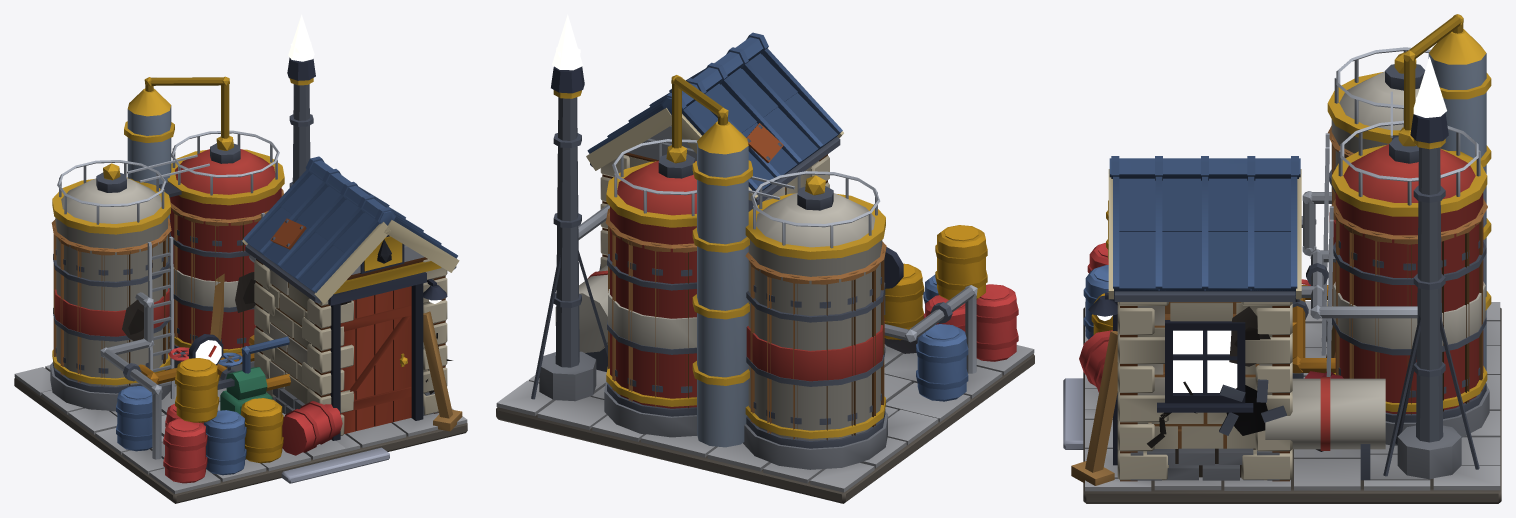
File: b_raffinerie.glb
3 views of the same model, side by side, from view 1: azimuth 30°, elevation 25°; view 2: azimuth 150°, elevation 25°; view 3: azimuth 270°, elevation 25° (orthographic). The views are drawn at different scales.
Parts seen in each view (by area): view 1: body, lv4_tanks, lv7_gold, lv4_haus, lvmax3_tanks, lv4_ausbau, dmg2_bruch, dmg1_spuren, lvmax3_haus, pulse_flamme_glow; view 2: body, lv4_tanks, lv7_gold, lv4_ausbau, lvmax3_tanks, lv4_haus, pulse_flamme_glow; view 3: body, lv4_tanks, lv4_haus, lv7_gold, lv4_ausbau, lvmax3_tanks, dmg2_bruch, win_glow, lvmax3_haus, dmg1_spuren, pulse_flamme_glow.
Boxes of the visible parts, left/top/right/bottom form: body: left=14, top=57, right=467, bottom=503; lv4_tanks: left=53, top=130, right=281, bottom=393; lv7_gold: left=52, top=76, right=441, bottom=385; lv4_haus: left=254, top=259, right=447, bottom=435; lvmax3_tanks: left=51, top=189, right=283, bottom=386; lv4_ausbau: left=116, top=358, right=219, bottom=451; dmg2_bruch: left=210, top=273, right=462, bottom=431; dmg1_spuren: left=122, top=272, right=452, bottom=394; lvmax3_haus: left=256, top=257, right=445, bottom=413; pulse_flamme_glow: left=288, top=14, right=314, bottom=61; body: left=496, top=32, right=1034, bottom=503; lv4_tanks: left=607, top=139, right=885, bottom=448; lv7_gold: left=553, top=75, right=885, bottom=447; lv4_ausbau: left=555, top=225, right=987, bottom=401; lvmax3_tanks: left=605, top=208, right=886, bottom=440; lv4_haus: left=600, top=155, right=829, bottom=268; pulse_flamme_glow: left=552, top=14, right=582, bottom=70; body: left=1063, top=113, right=1501, bottom=503; lv4_tanks: left=1328, top=47, right=1486, bottom=422; lv4_haus: left=1117, top=302, right=1292, bottom=480; lv7_gold: left=1327, top=14, right=1491, bottom=411; lv4_ausbau: left=1106, top=200, right=1385, bottom=480; lvmax3_tanks: left=1328, top=126, right=1487, bottom=414; dmg2_bruch: left=1071, top=325, right=1343, bottom=485; win_glow: left=1173, top=330, right=1237, bottom=392; lvmax3_haus: left=1120, top=302, right=1289, bottom=481; dmg1_spuren: left=1147, top=306, right=1270, bottom=448; pulse_flamme_glow: left=1413, top=57, right=1446, bottom=117.
Size of the model in its own units: 5.51 by 5.89 by 5.47.
